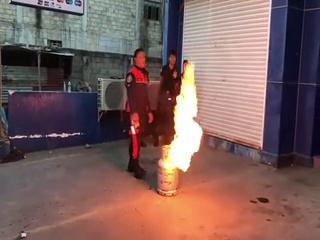Fire: (167, 62, 205, 174)
